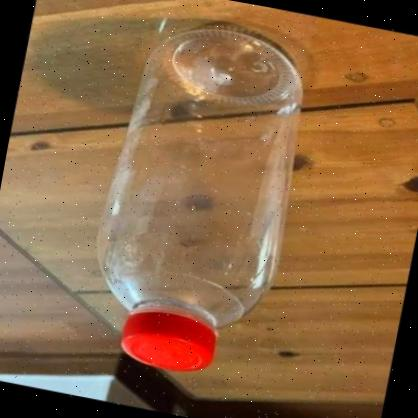bottle: (75, 10, 317, 387)
cap: (114, 302, 224, 378)
